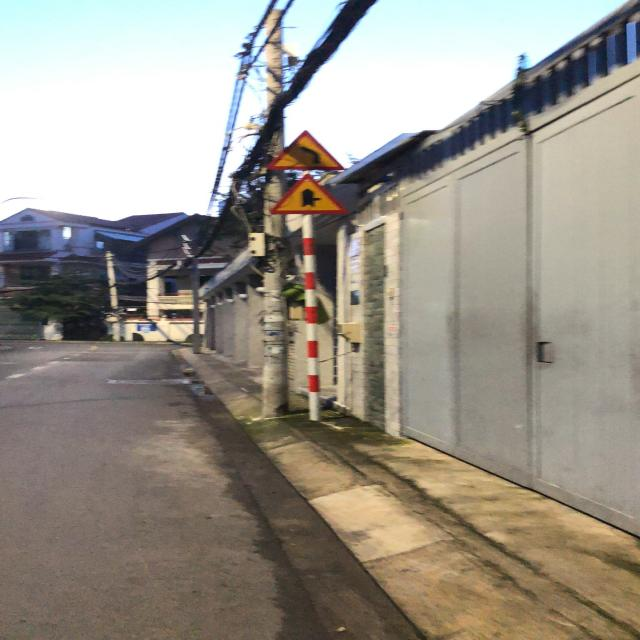Bien bao cho ngoat nguy hiem: (264, 128, 353, 172)
Bien bao giao nhau voi duong khong uu tien: (268, 173, 350, 219)
